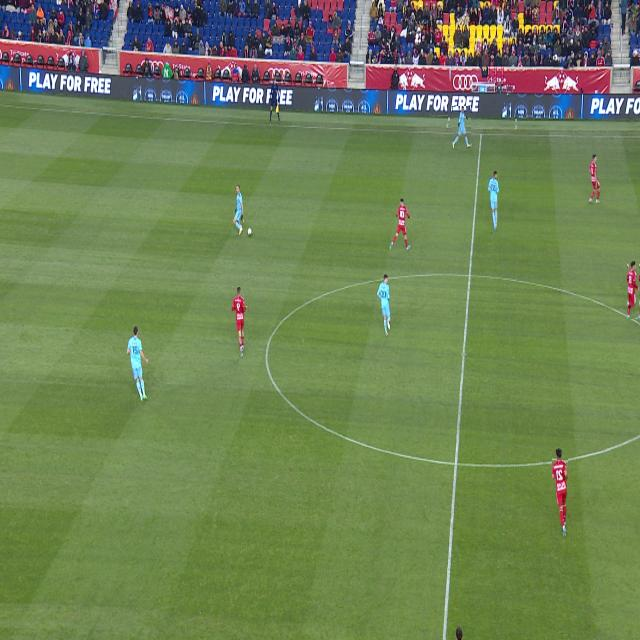football: (248, 227, 252, 236)
player: (127, 326, 149, 401), (552, 449, 568, 538), (232, 288, 248, 359), (390, 199, 411, 250), (377, 275, 391, 336), (453, 107, 471, 149), (628, 262, 639, 319), (489, 171, 498, 232), (589, 155, 600, 203), (234, 185, 243, 235), (638, 263, 640, 268)
